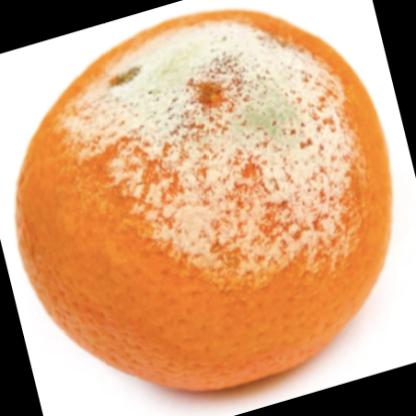rotten: (19, 11, 395, 389)
